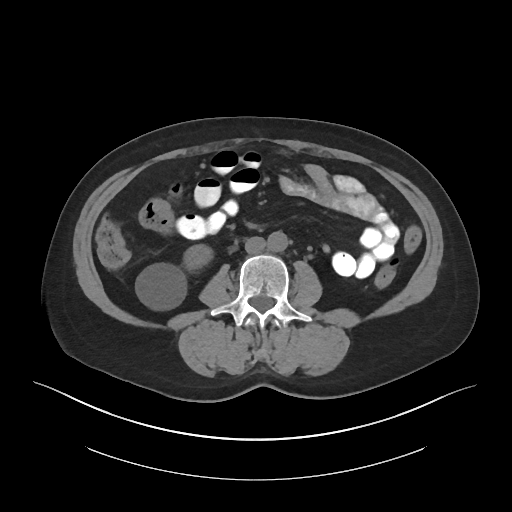Lesion: (132, 259, 188, 313)
